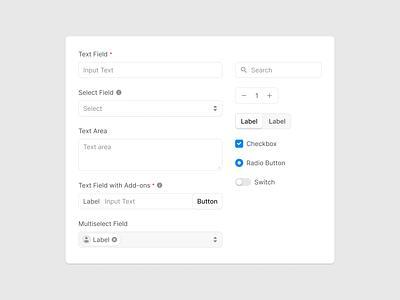button: (192, 193, 225, 211)
checkbox: (236, 139, 244, 150)
dropdown: (77, 98, 224, 120), (76, 231, 227, 251)
input: (76, 61, 225, 81), (79, 192, 191, 211), (235, 62, 324, 81)
label: (80, 181, 164, 190), (78, 220, 130, 230), (77, 88, 125, 98), (78, 51, 114, 60), (247, 139, 279, 149), (247, 161, 287, 169), (79, 127, 109, 135), (254, 180, 277, 187)
radio: (236, 159, 245, 169)
switch: (233, 177, 253, 188)
